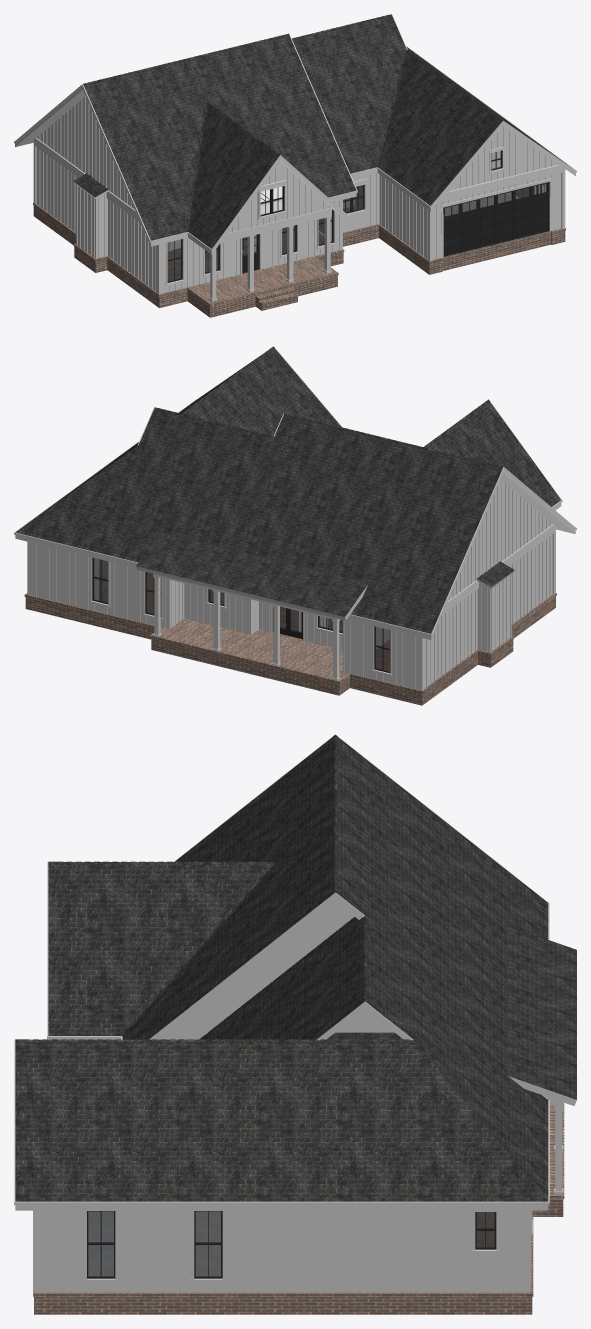
File: house_farmhouse.glb
The picture shows the model from 3 angles, top to bottom: view 1: azimuth 30°, elevation 25°; view 2: azimuth 150°, elevation 25°; view 3: azimuth 270°, elevation 25°; orthographic projection. The views are drawn at different scales.
Size of the model in its own units: 20 by 8.86 by 15.87.
14 materials, 10 textured.
